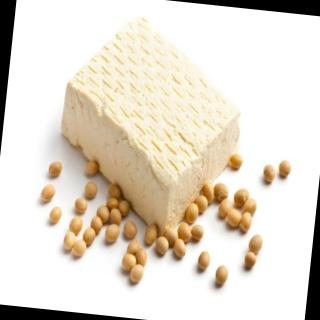Tahu: (29, 4, 275, 264)
